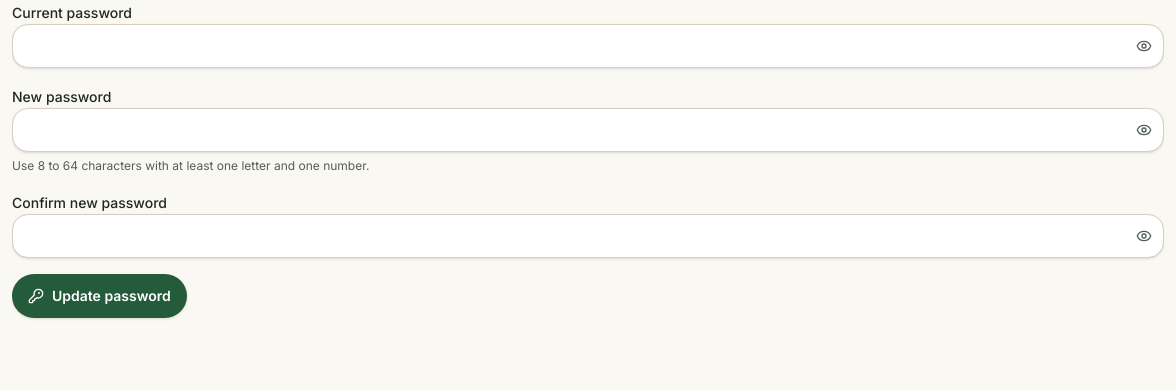
it: ChangePasswordForm › submits, clears fields, and shows success message on API success
The width and height of the screenshot is (1176, 390).
Type "OldPass123" into the password field labelled "Current password" at (588, 46), box [12,24,1164,68]
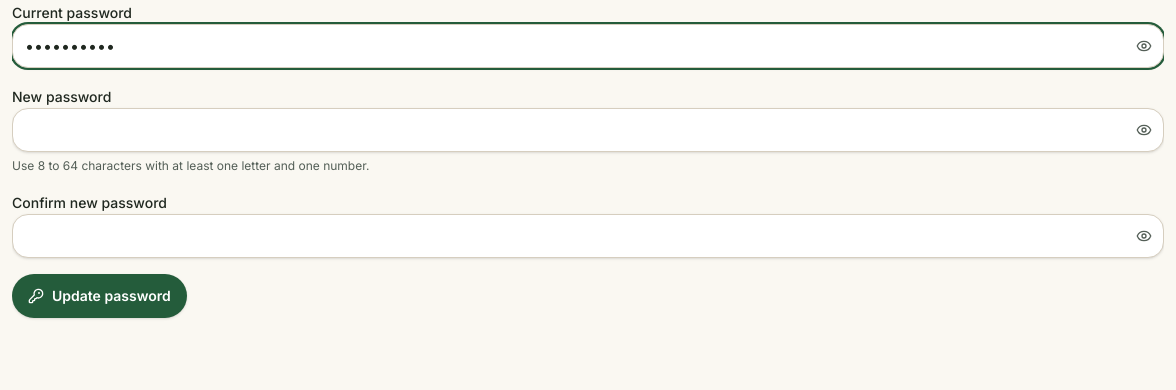
Type "NewPass123" into the password field labelled "New password" at (588, 130), box [12,108,1164,152]
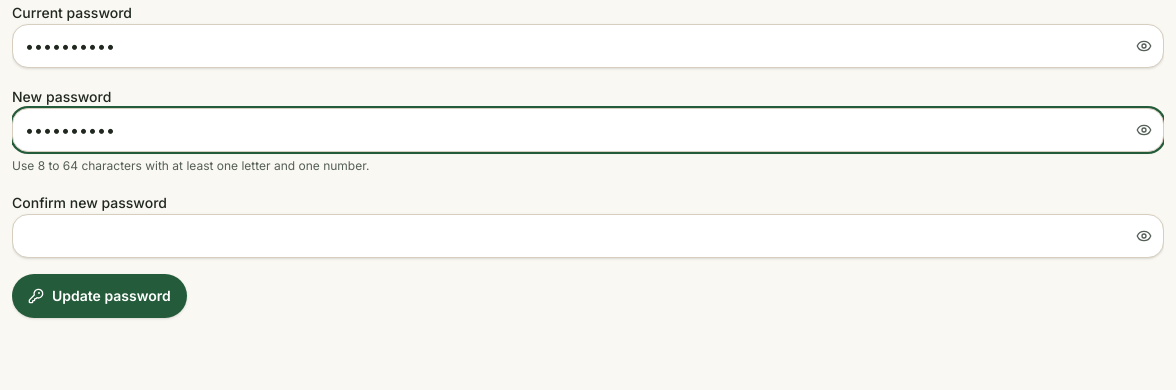
Type "NewPass123" into the password field labelled "Confirm new password" at (588, 236), box [12,214,1164,258]
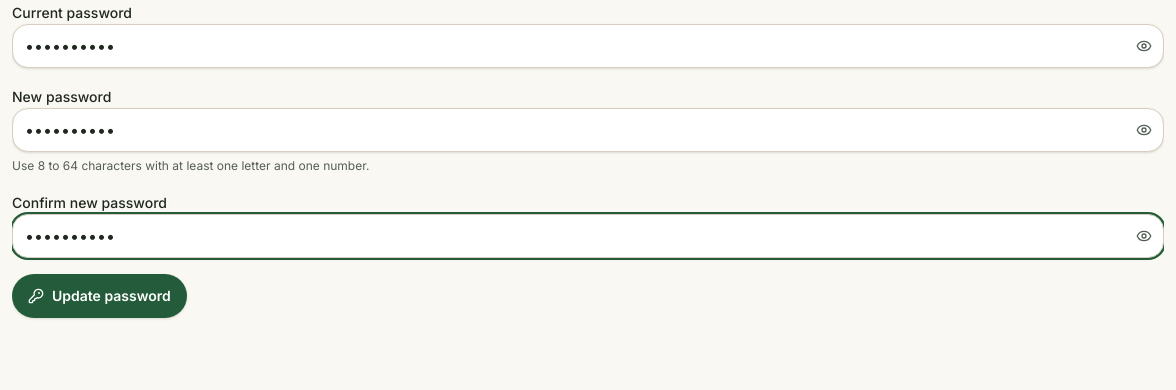
Click the button "Update password" at (99, 296), box [12,274,187,318]
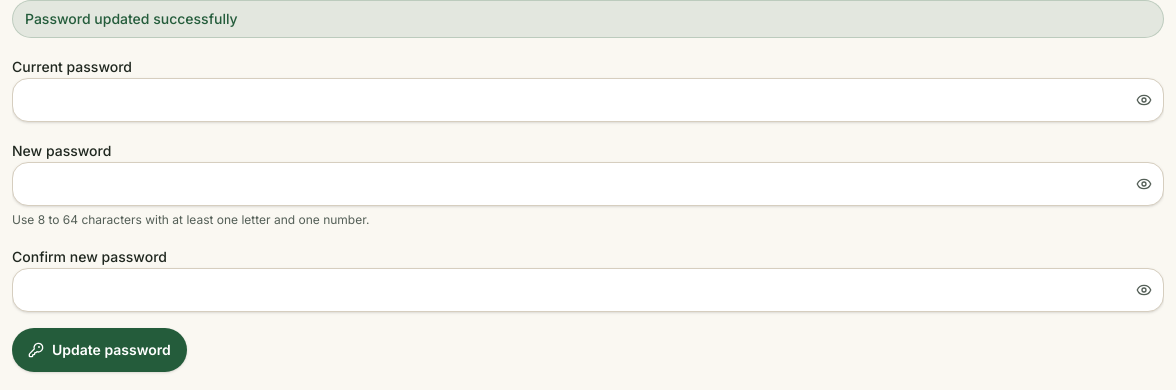
Expected: the message reads "Password updated successfully", [25,10,238,27]
Expected: the password field labelled "Current password" is empty, [12,78,1164,122]
Expected: the password field labelled "New password" is empty, [12,162,1164,206]
